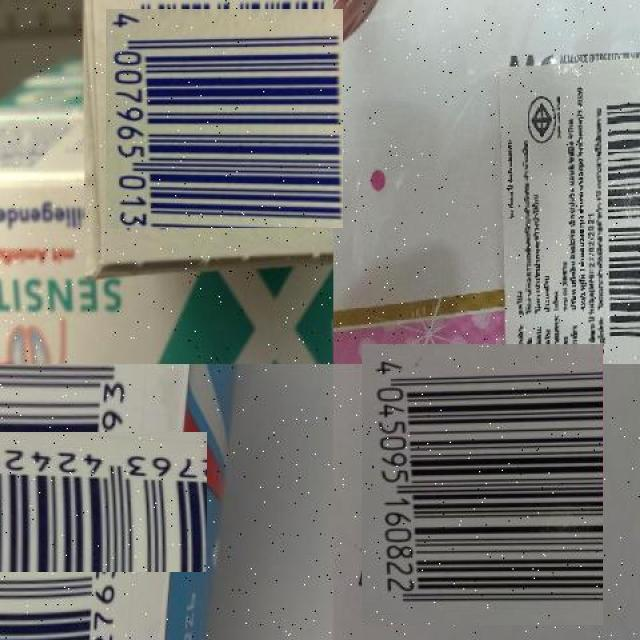Barcode: (351, 354, 613, 615), (110, 4, 338, 233), (0, 398, 174, 606), (605, 75, 640, 341)
